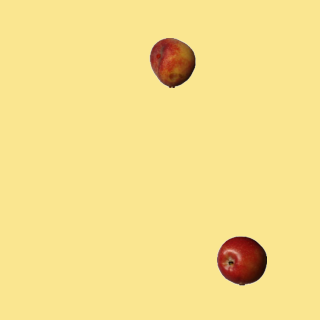Apple Braeburn: (216, 235, 266, 285)
Peach: (147, 37, 197, 87)
